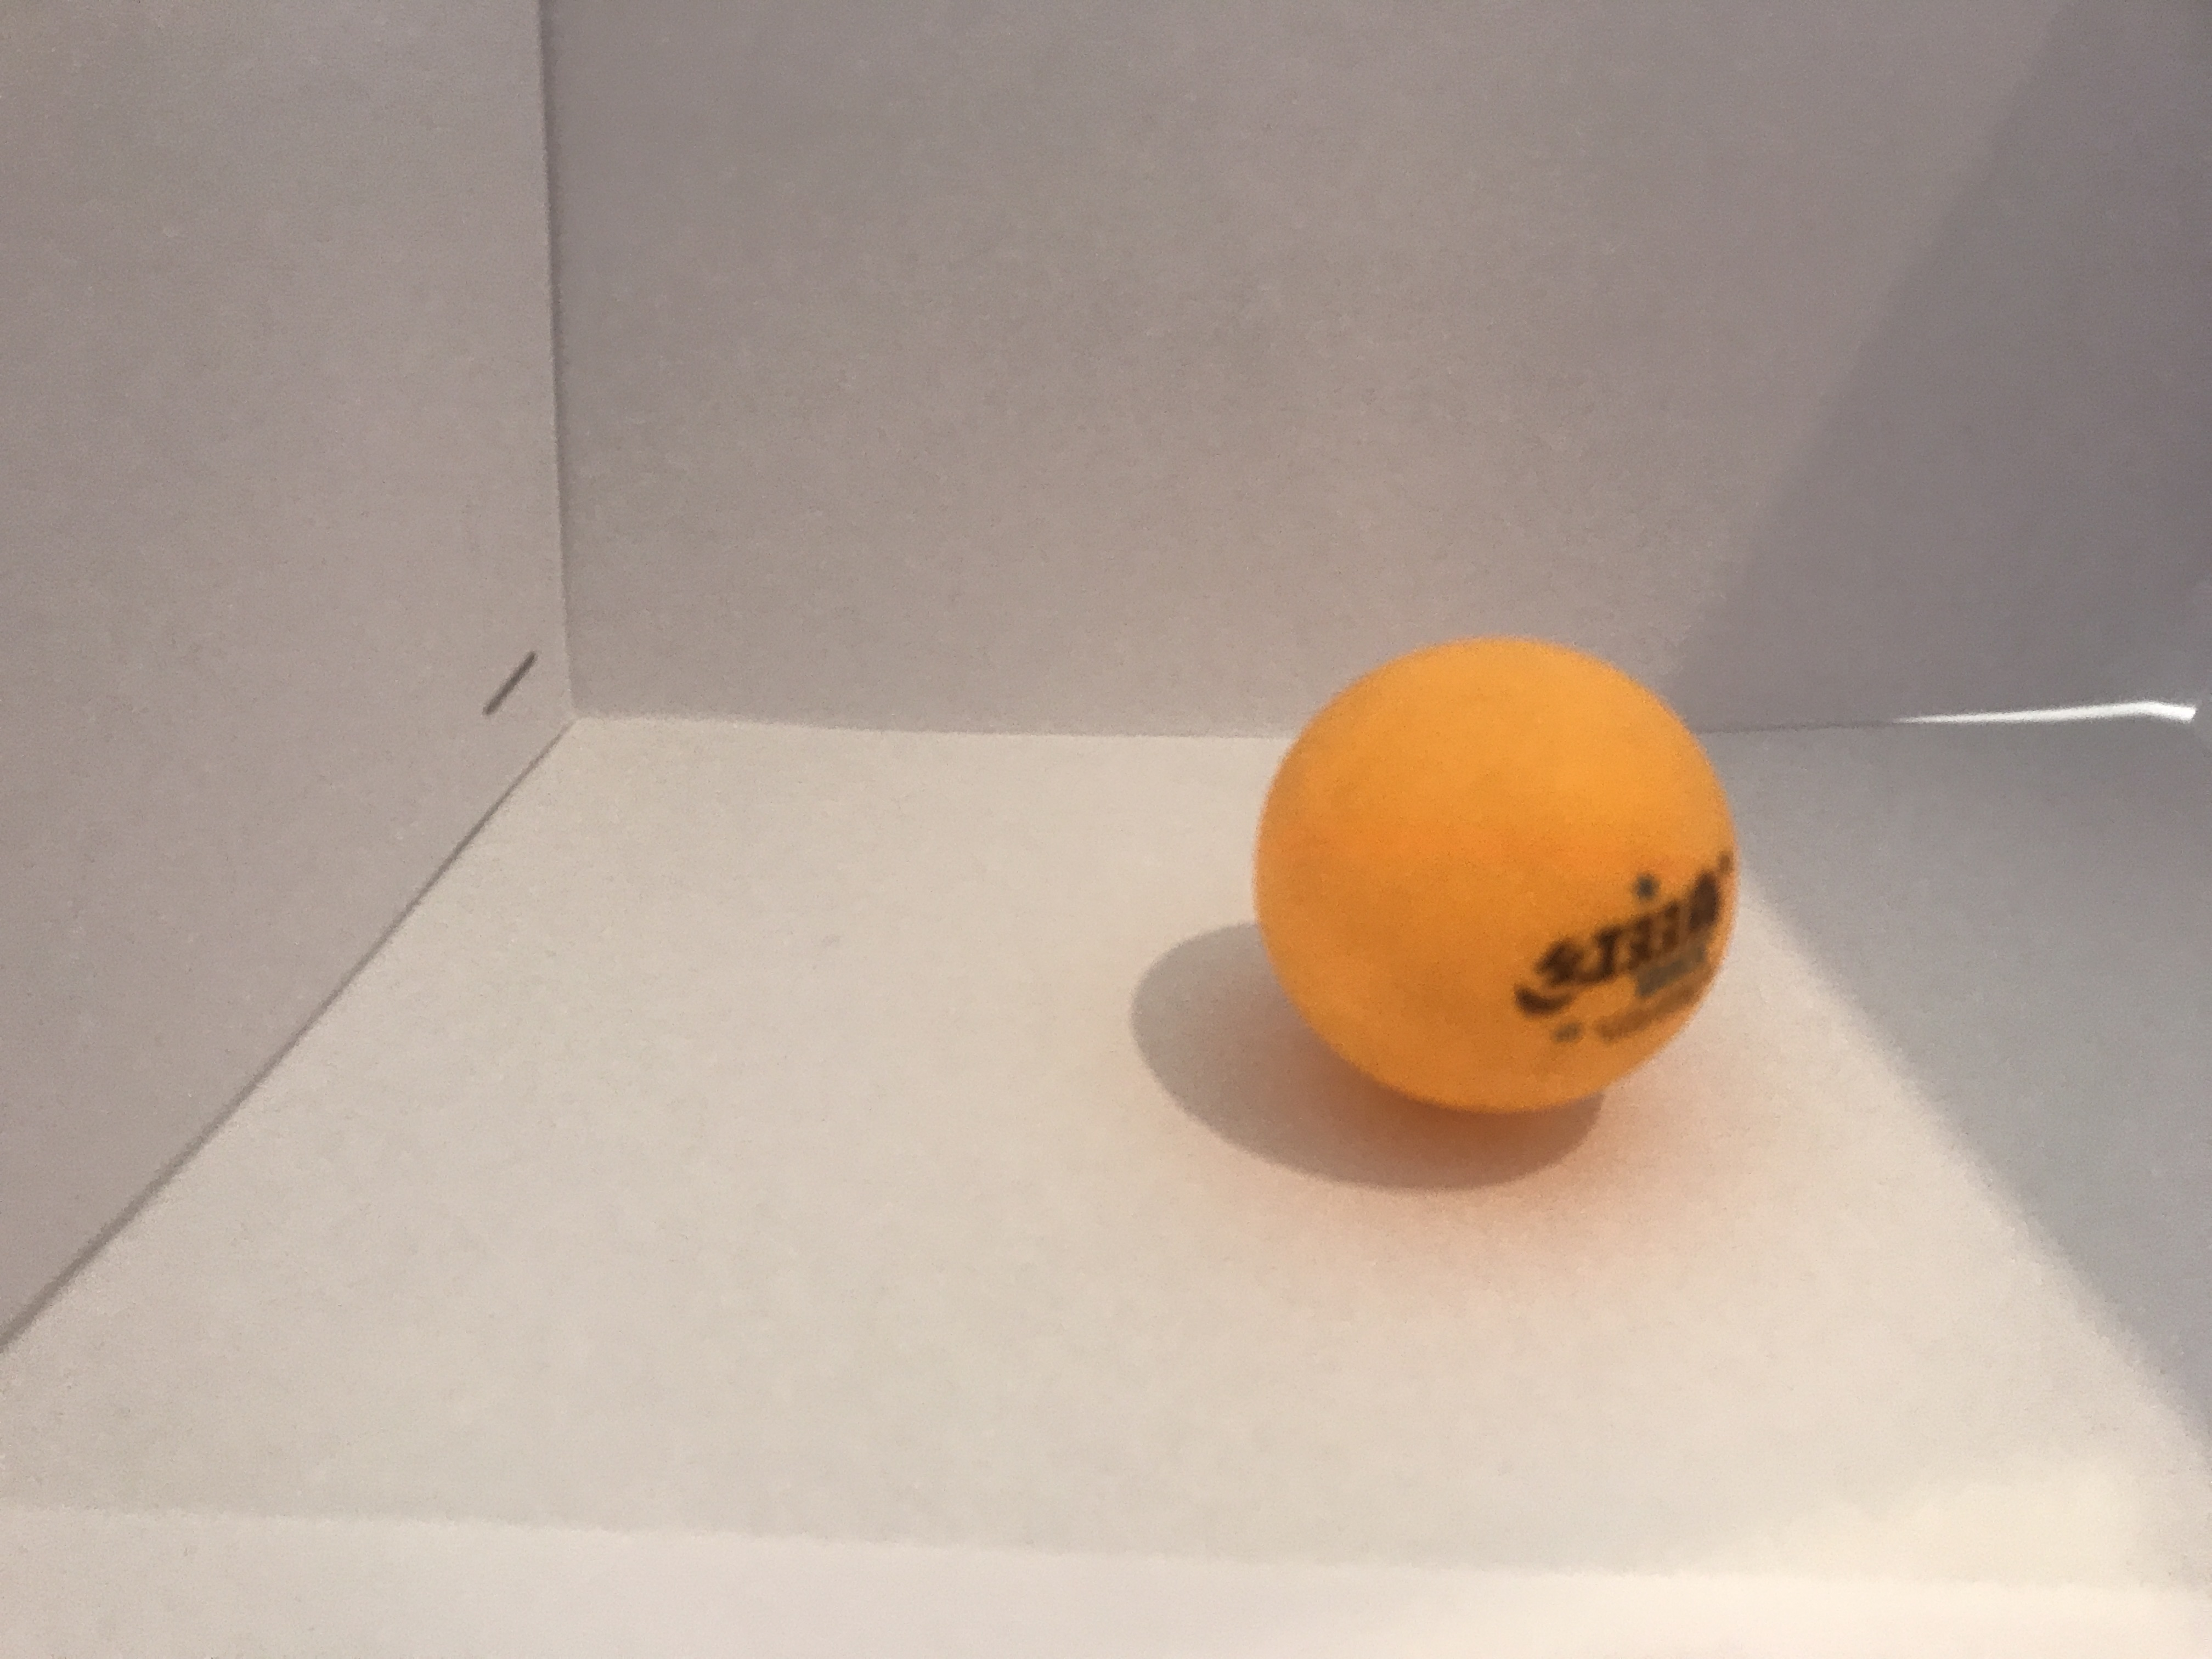pp: (1231, 626, 1754, 1124)
